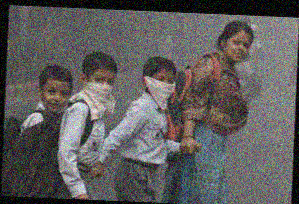with_mask: (150, 72, 177, 98), (88, 72, 114, 98)
without_mask: (41, 83, 71, 113), (224, 35, 250, 62)
